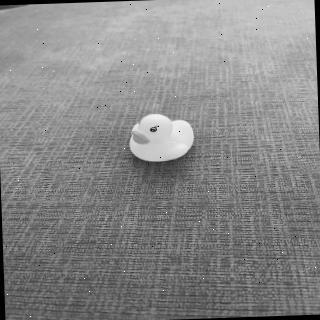duck_regular: (127, 112, 199, 166)
